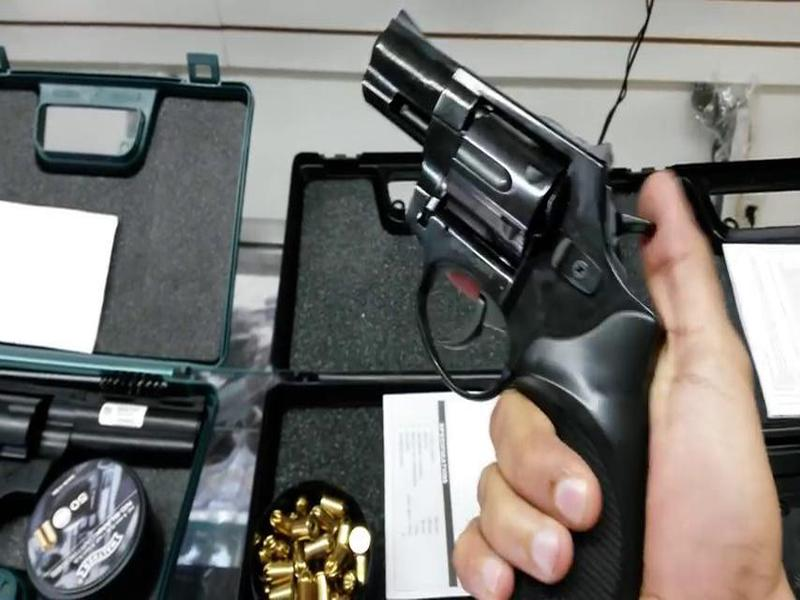Revolver: (314, 15, 665, 593)
